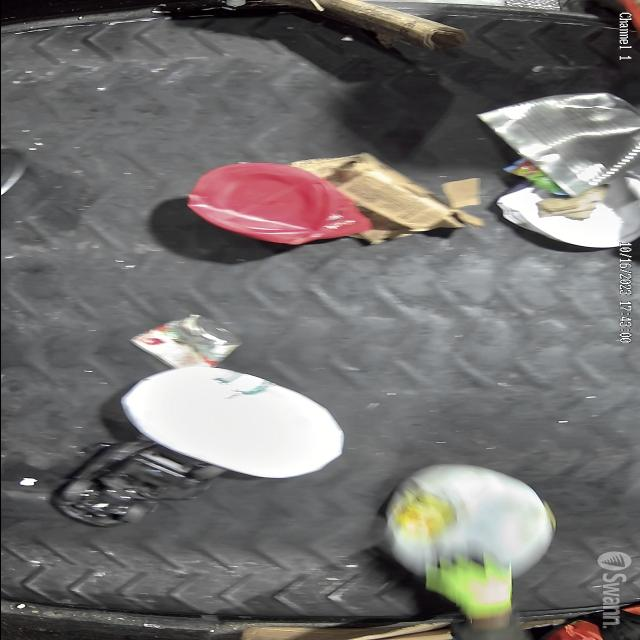can: (488, 90, 640, 192)
milk_jug: (122, 366, 344, 478)
non_white_jug: (184, 162, 373, 244)
